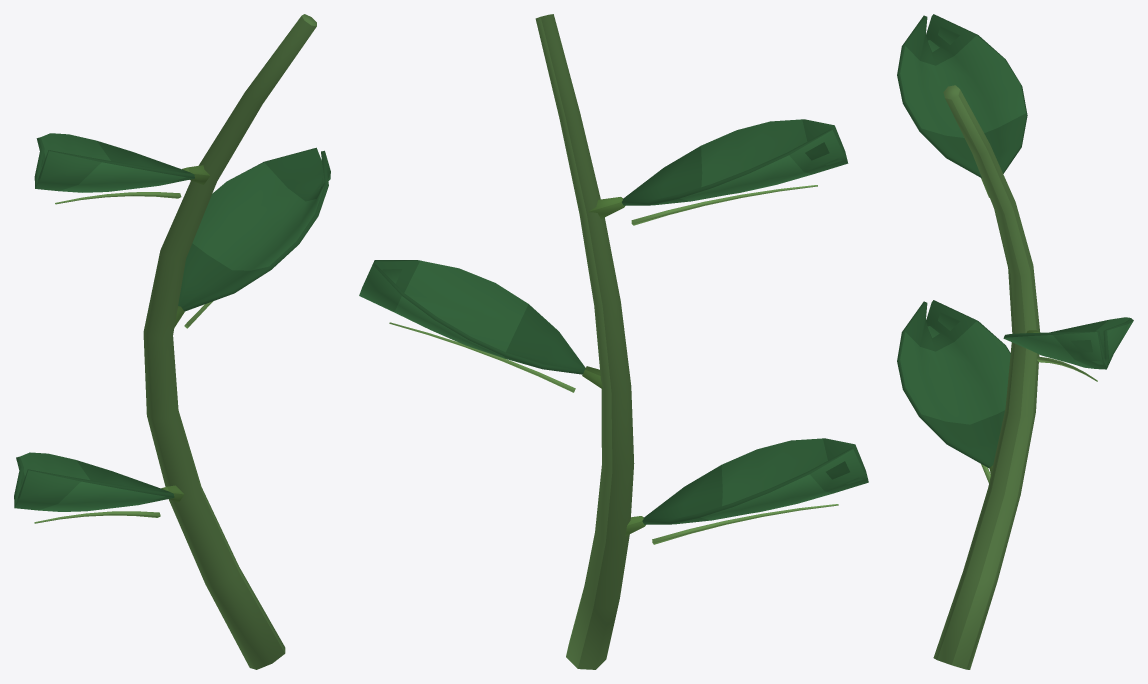
The model's file is garden-geranium-bud-stem-1.glb.
The picture shows the model from 3 angles, left to right: view 1: azimuth 30°, elevation 25°; view 2: azimuth 150°, elevation 25°; view 3: azimuth 270°, elevation 25°; orthographic projection. The views are drawn at different scales.
Visible parts, largest first — view 1: geranium-bud-stem-1; view 2: geranium-bud-stem-1; view 3: geranium-bud-stem-1.
Boxes of the visible parts, bbox=[...] form: geranium-bud-stem-1: bbox=[14, 14, 330, 669]; geranium-bud-stem-1: bbox=[359, 14, 868, 669]; geranium-bud-stem-1: bbox=[897, 14, 1133, 669].
Size of the model in its own units: 0.1585 by 0.2354 by 0.0838.
